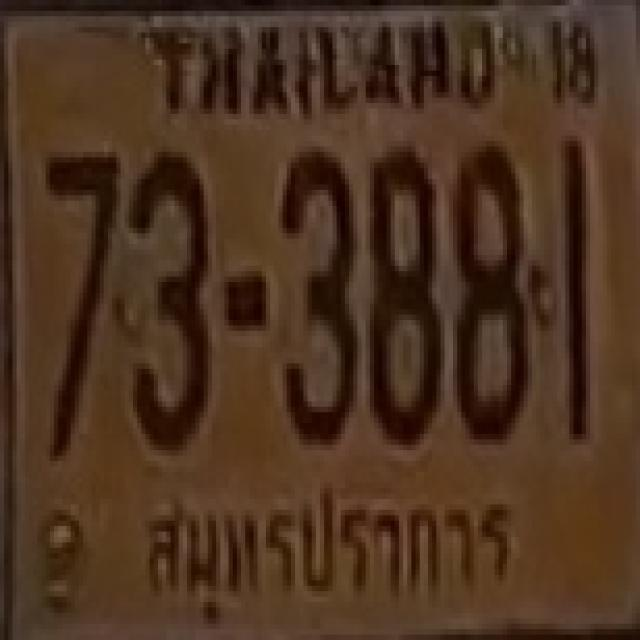3: (125, 146, 208, 445), (278, 146, 354, 440)
7: (42, 152, 116, 358), (42, 149, 116, 334)
8: (448, 144, 524, 436), (366, 146, 436, 440)
SPK: (125, 480, 537, 622)
